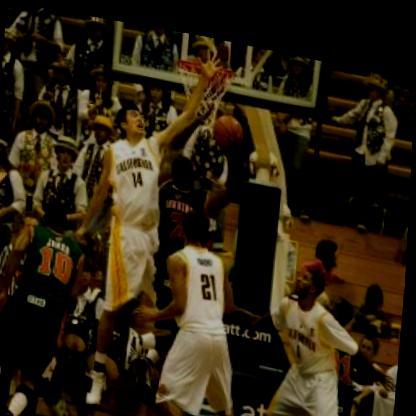basketball: (208, 98, 248, 146)
